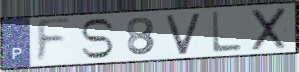8: (125, 16, 157, 56)
F: (35, 16, 75, 67)
L: (210, 10, 243, 54)
S: (79, 17, 117, 61)
V: (164, 11, 203, 56)
X: (249, 6, 288, 53)
